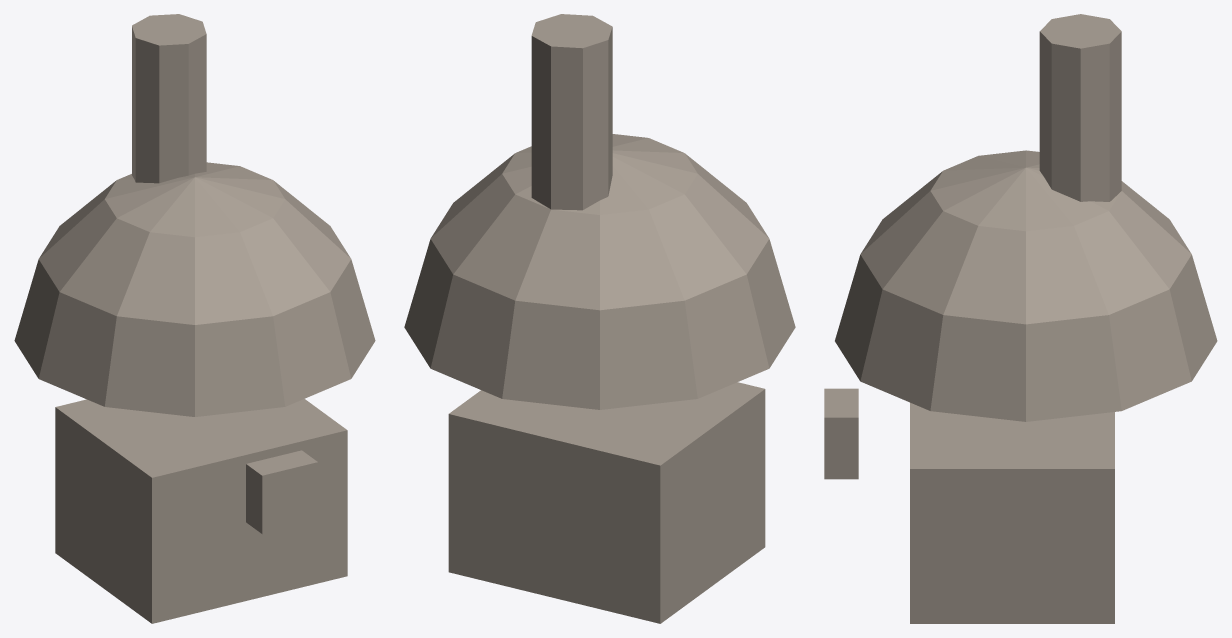
Rendered from oven.glb.
3 views of the same model, side by side, from view 1: azimuth 30°, elevation 25°; view 2: azimuth 150°, elevation 25°; view 3: azimuth 270°, elevation 25° (orthographic). The views are drawn at different scales.
Visible parts, largest first — view 1: oven; view 2: oven; view 3: oven.
Part boxes in pixels (x1,y1,x2,y2): oven: [14, 14, 375, 623]; oven: [404, 14, 795, 623]; oven: [824, 14, 1217, 623].
Size of the model in its own units: 0.56 by 0.875 by 0.575.
